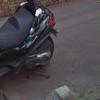Motorcycle: (2, 1, 59, 79)
